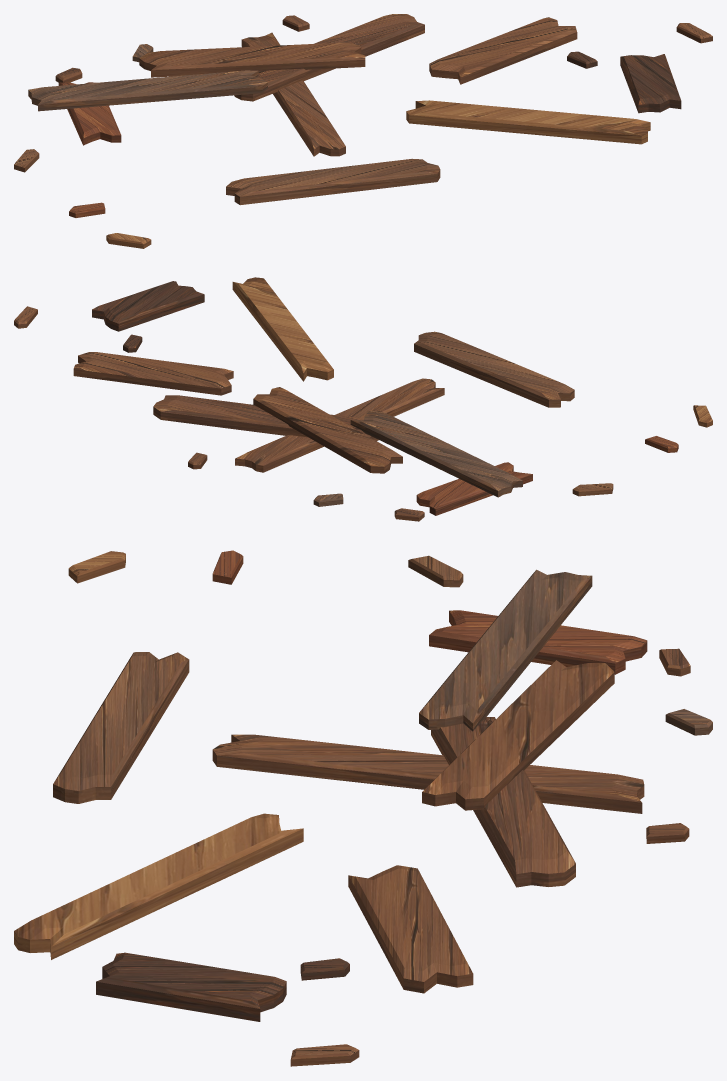
File: junk_rubble_wood_b.glb
The picture shows the model from 3 angles, top to bottom: view 1: azimuth 30°, elevation 25°; view 2: azimuth 150°, elevation 25°; view 3: azimuth 270°, elevation 25°; orthographic projection. The views are drawn at different scales.
Visible parts, largest first — view 1: model; view 2: model; view 3: model.
Part boxes in pixels (<box>): model: <box>14,14,712,248</box>; model: <box>14,277,712,521</box>; model: <box>14,550,712,1066</box>.
Size of the model in its own units: 2.06 by 0.0829 by 1.2.
Materials: 8 (8 with a texture image).
